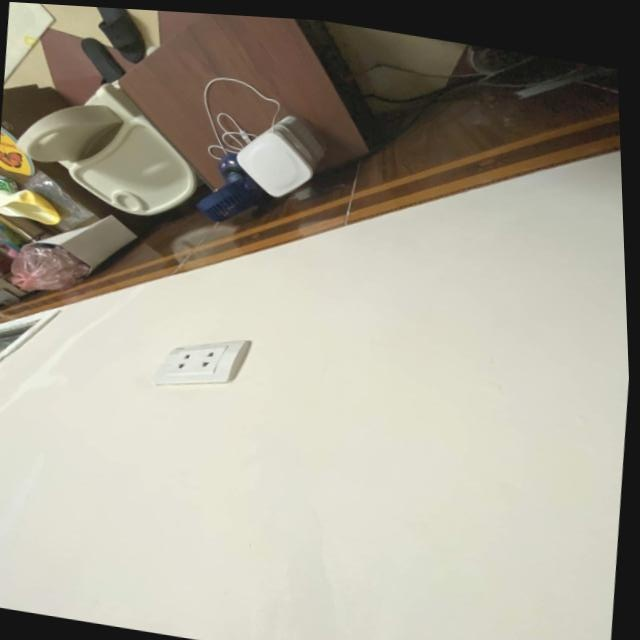outlet: (148, 326, 253, 403)
